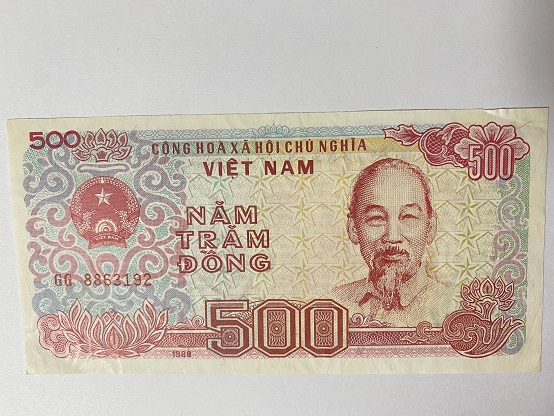500vnd: (7, 111, 541, 373)
